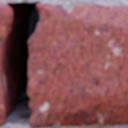broken_brick: (28, 3, 127, 126), (0, 3, 12, 124)
crack: (0, 1, 40, 126)
